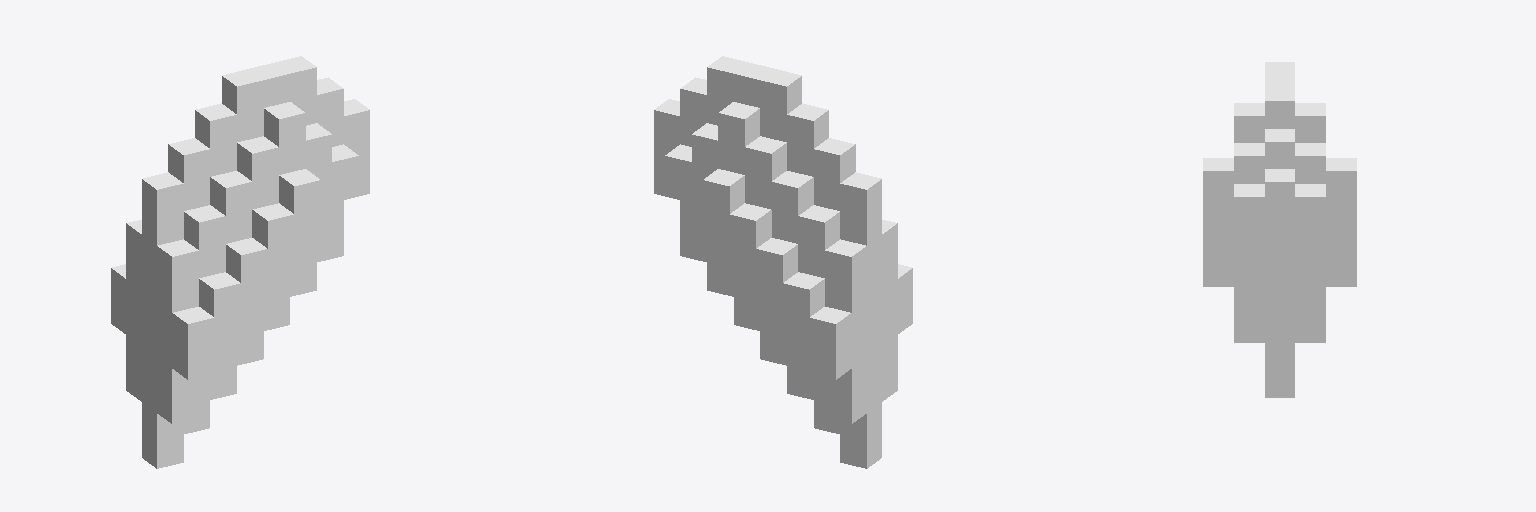
Rendered from heart1.obj.
3 renders of one model, left to right at view 1: azimuth 30°, elevation 25°; view 2: azimuth 150°, elevation 25°; view 3: azimuth 270°, elevation 25°, orthographic.
Parts seen in each view (by area): view 1: heart1; view 2: heart1; view 3: heart1.
Part boxes in pixels (x1,y1,x2,y2): heart1: (111, 56, 369, 468); heart1: (654, 56, 912, 468); heart1: (1203, 62, 1356, 397).
Bounding box in the file's own units: 8 × 13 × 5.